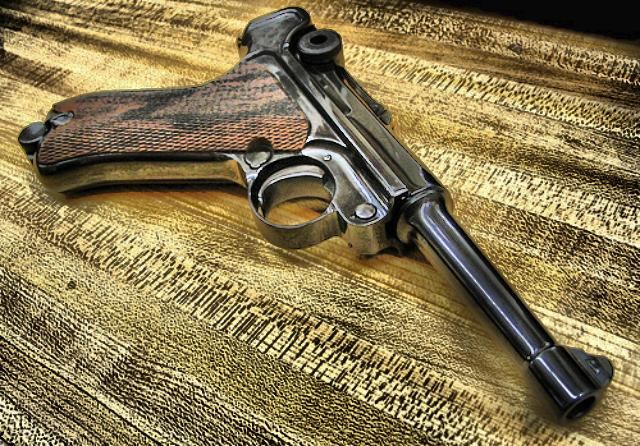pistol: (16, 2, 606, 422)
